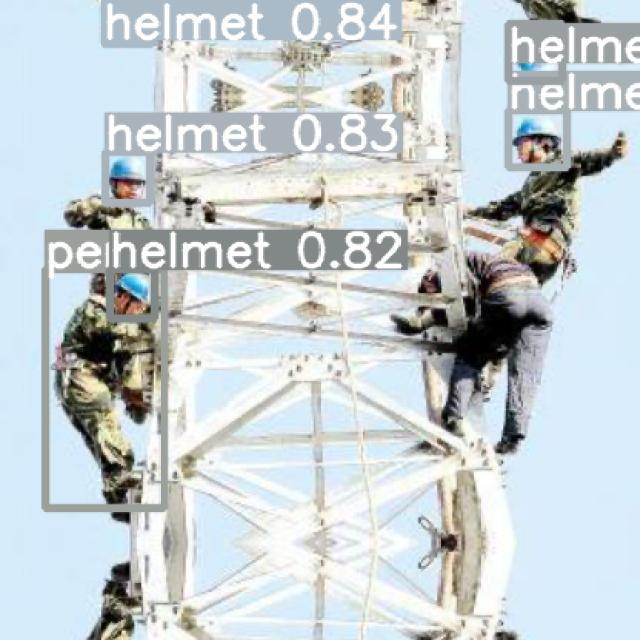blue helmet: (511, 34, 567, 78), (112, 265, 155, 309), (513, 115, 560, 153), (109, 157, 152, 198)
